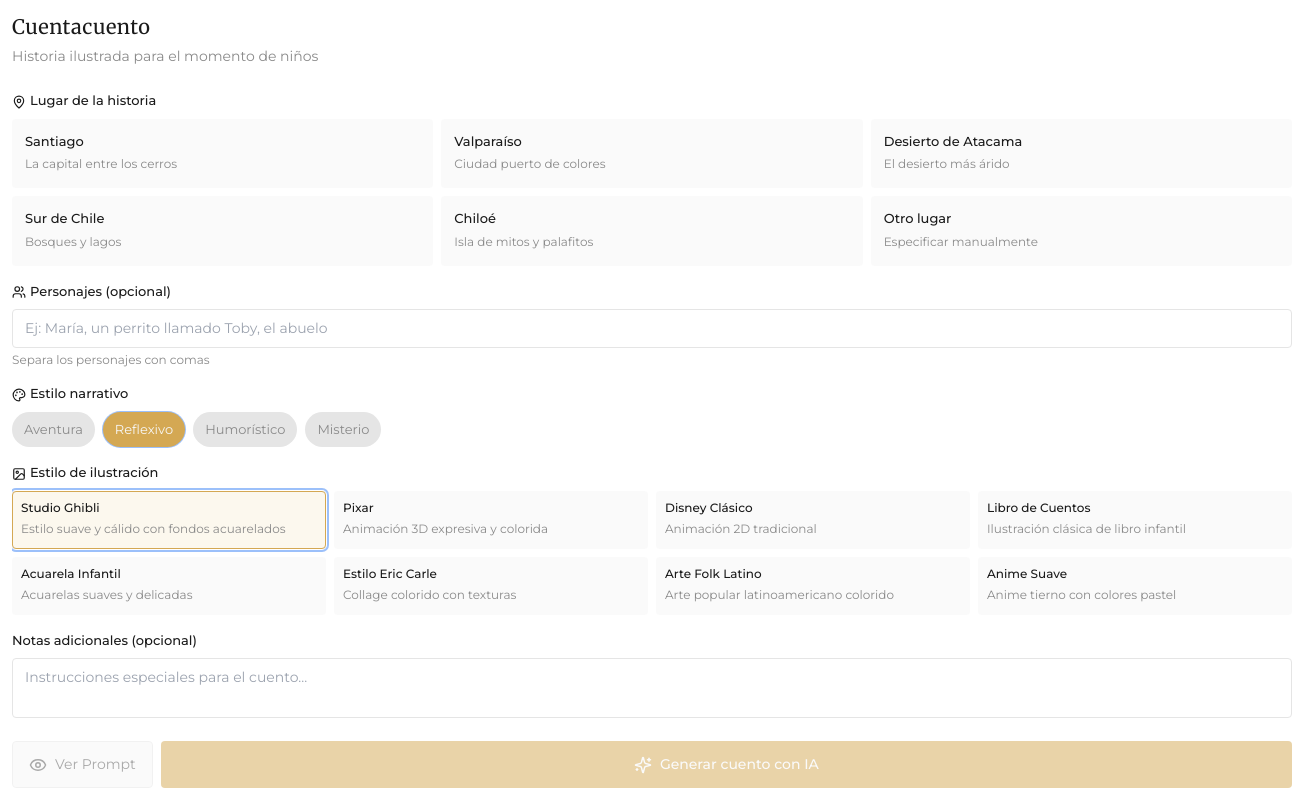
Test: T-U.3 — aviso en una generación exitosa › sin la clave `warnings` no hay aviso (el borde la omite cuando está vacía)
What coordinates should you click on to do the following:
click the button "Santiago La capital entre los cerros"
I would click on:
 (54, 140)
Its box is [12,118,433,188].
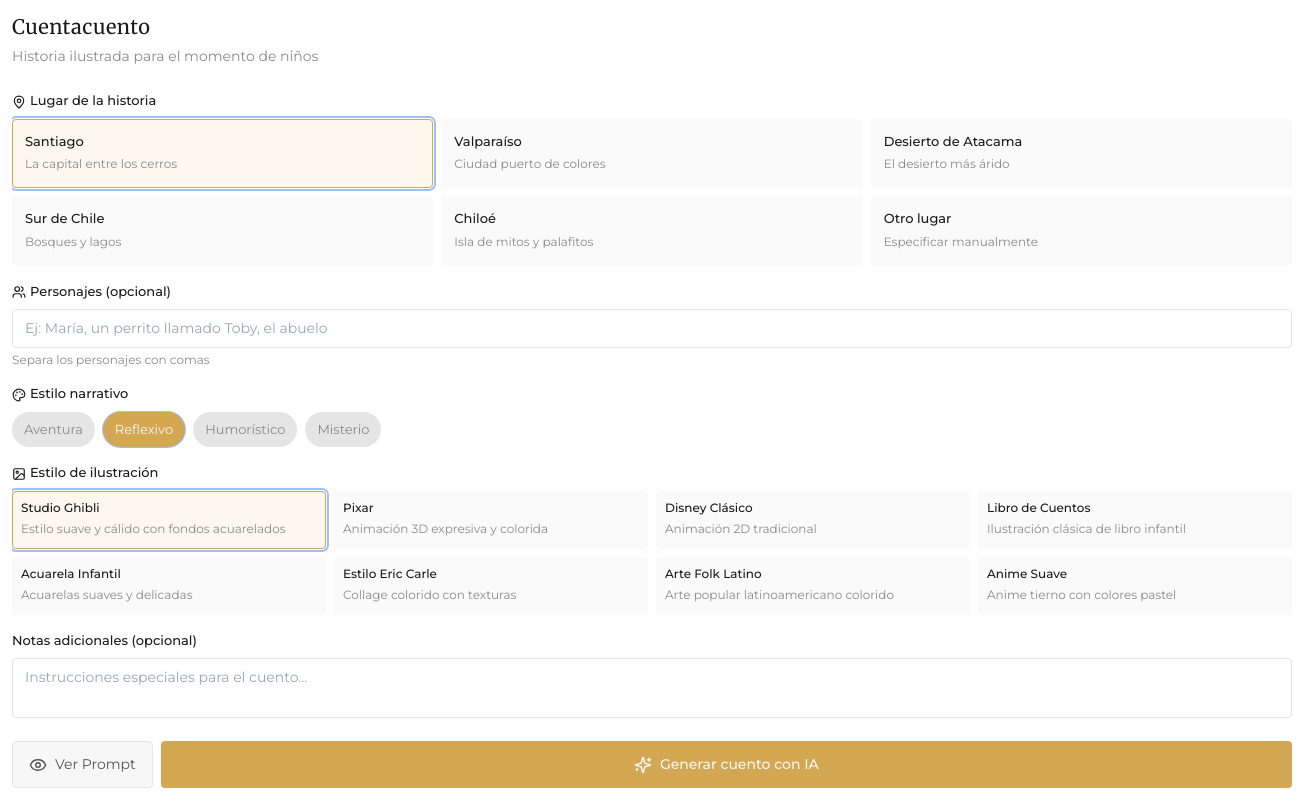
What coordinates should you click on to do the following:
click the button "Generar cuento con IA"
I would click on:
 (726, 764)
Its box is [161,741,1292,788].
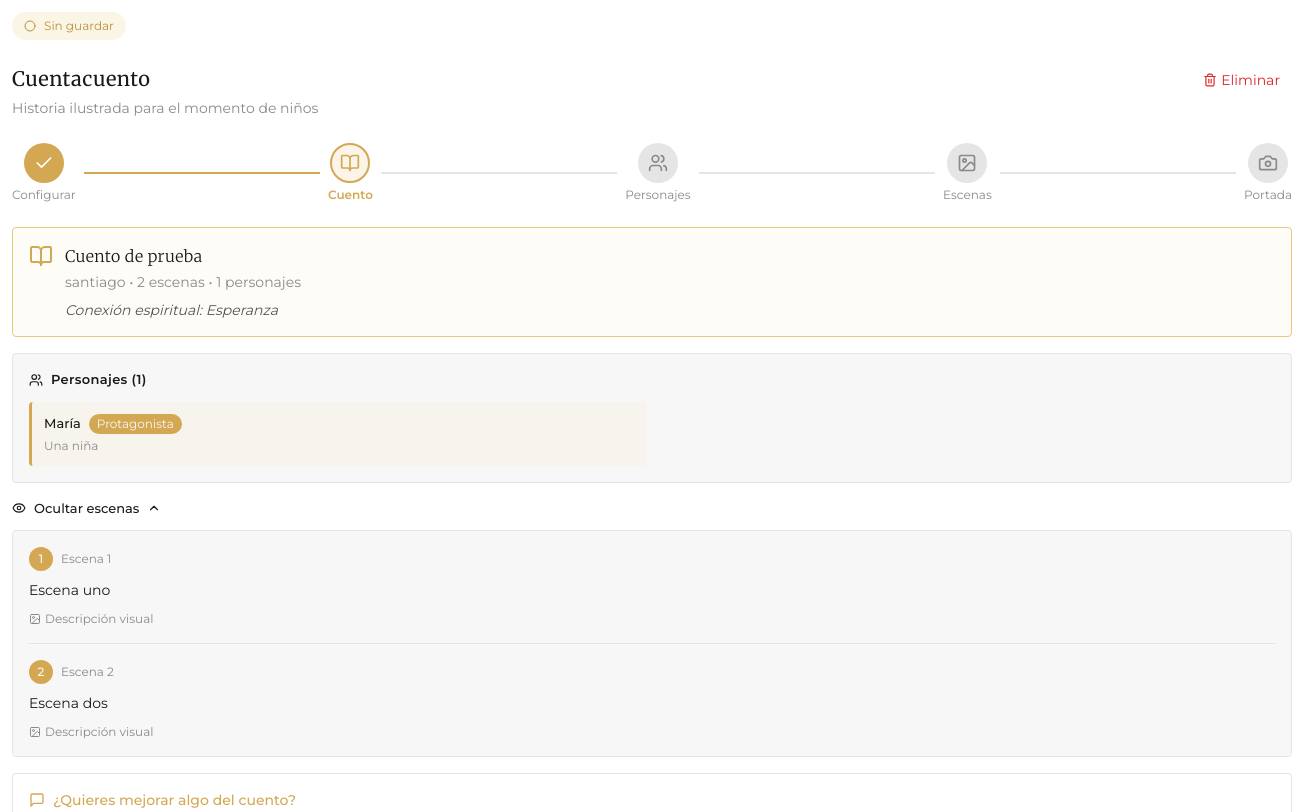
Result: the button "Generar cuento con IA" is gone
